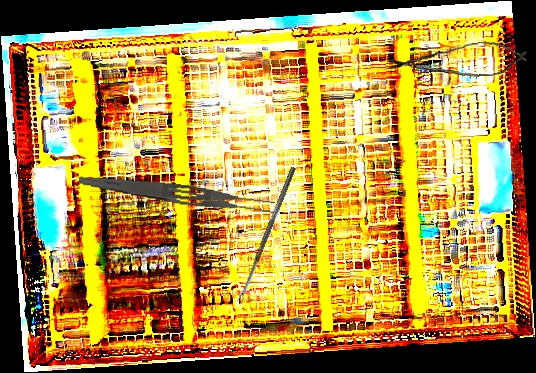Dressing Forceps: (77, 172, 276, 218)
Micro Scissor: (385, 39, 529, 83)
Surgical Spoon: (235, 166, 297, 304)
